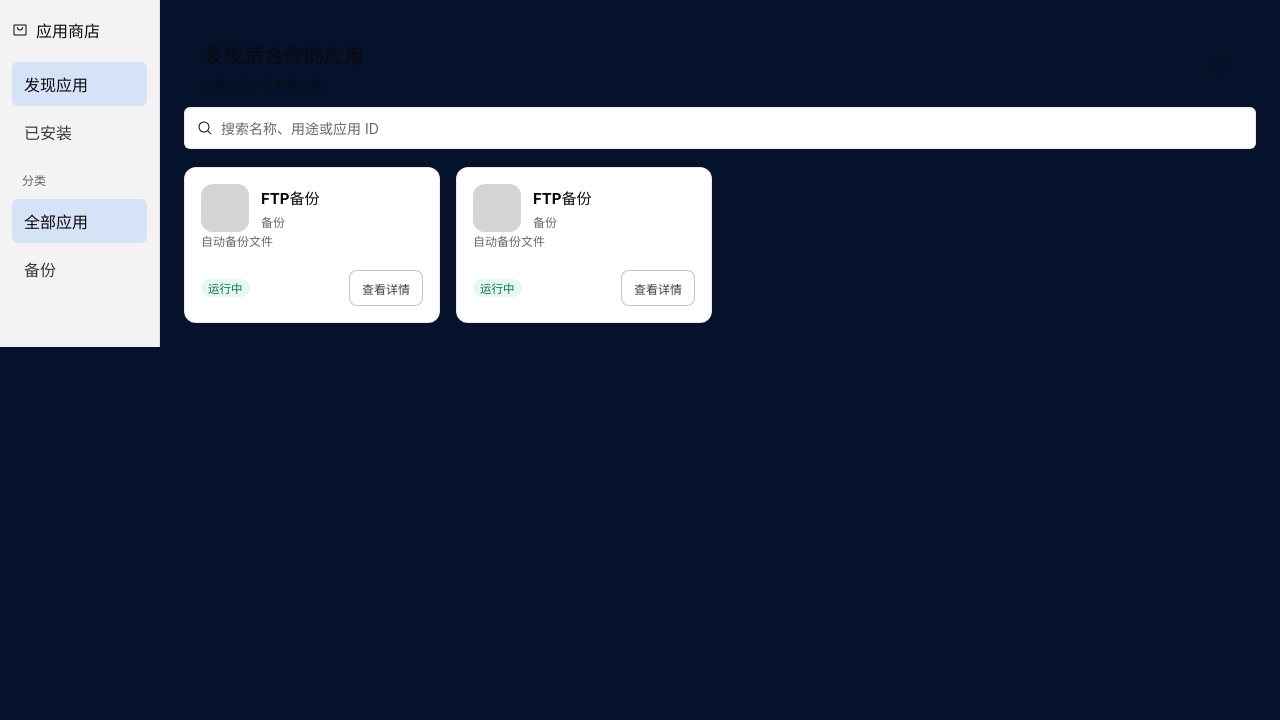
Test case: official store acceptance › opens a readable detail view
Click the button with aria-label "查看FTP备份详情".
click(312, 208)  # box left=201, top=184, right=423, bottom=232
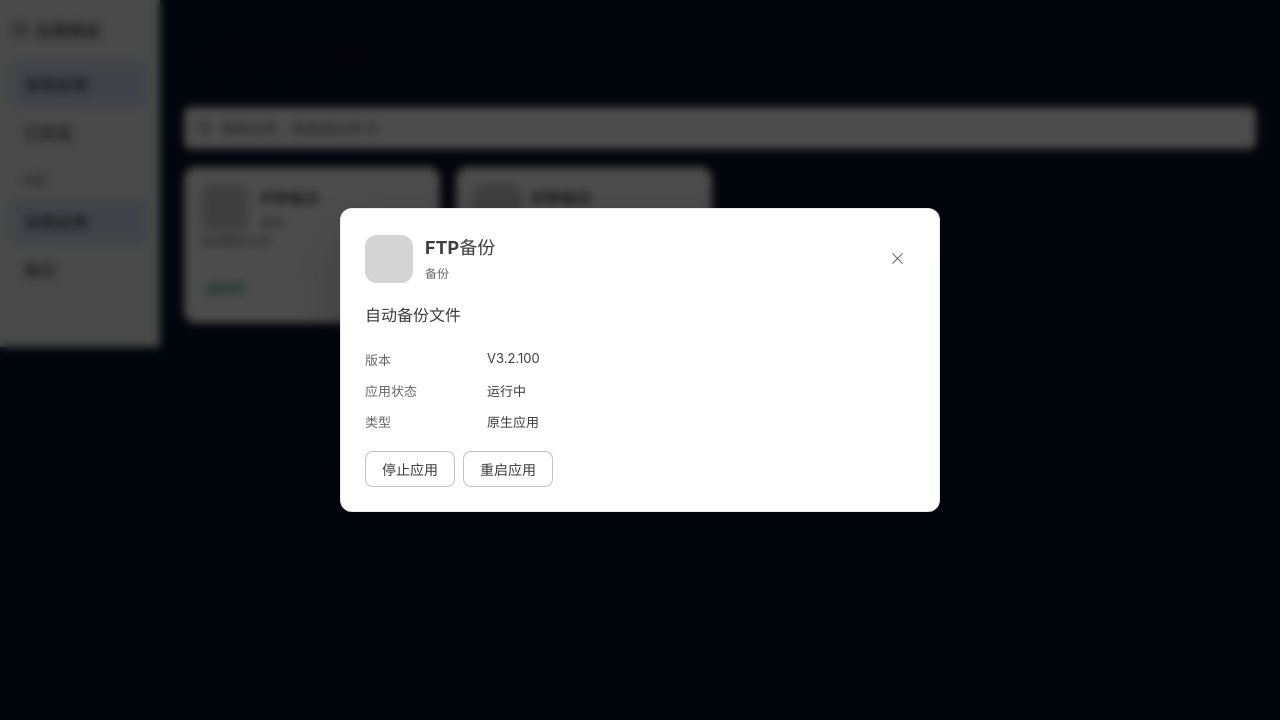
Expected: the dialog named "FTP备份详情" shows "V3.2.100", left=487, top=350, right=540, bottom=366
Expected: the button "停止应用" is shown, left=365, top=451, right=455, bottom=487
